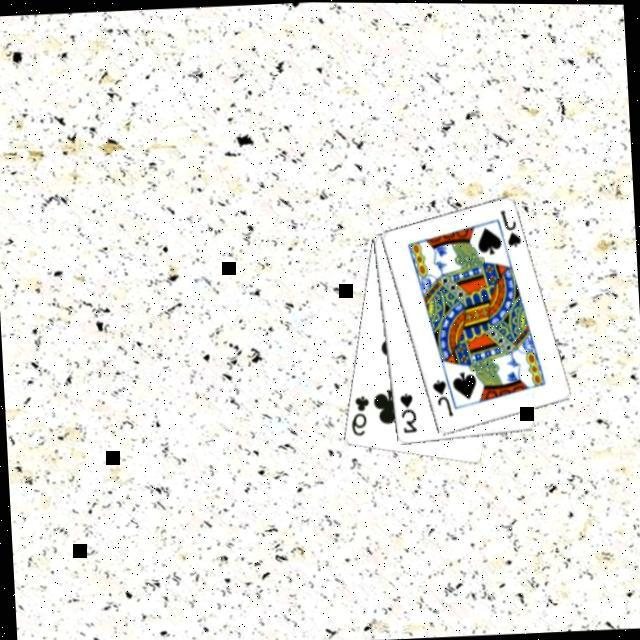3S: (393, 388, 418, 436)
6C: (344, 391, 372, 438)
JS: (426, 374, 454, 418), (494, 205, 521, 249)
